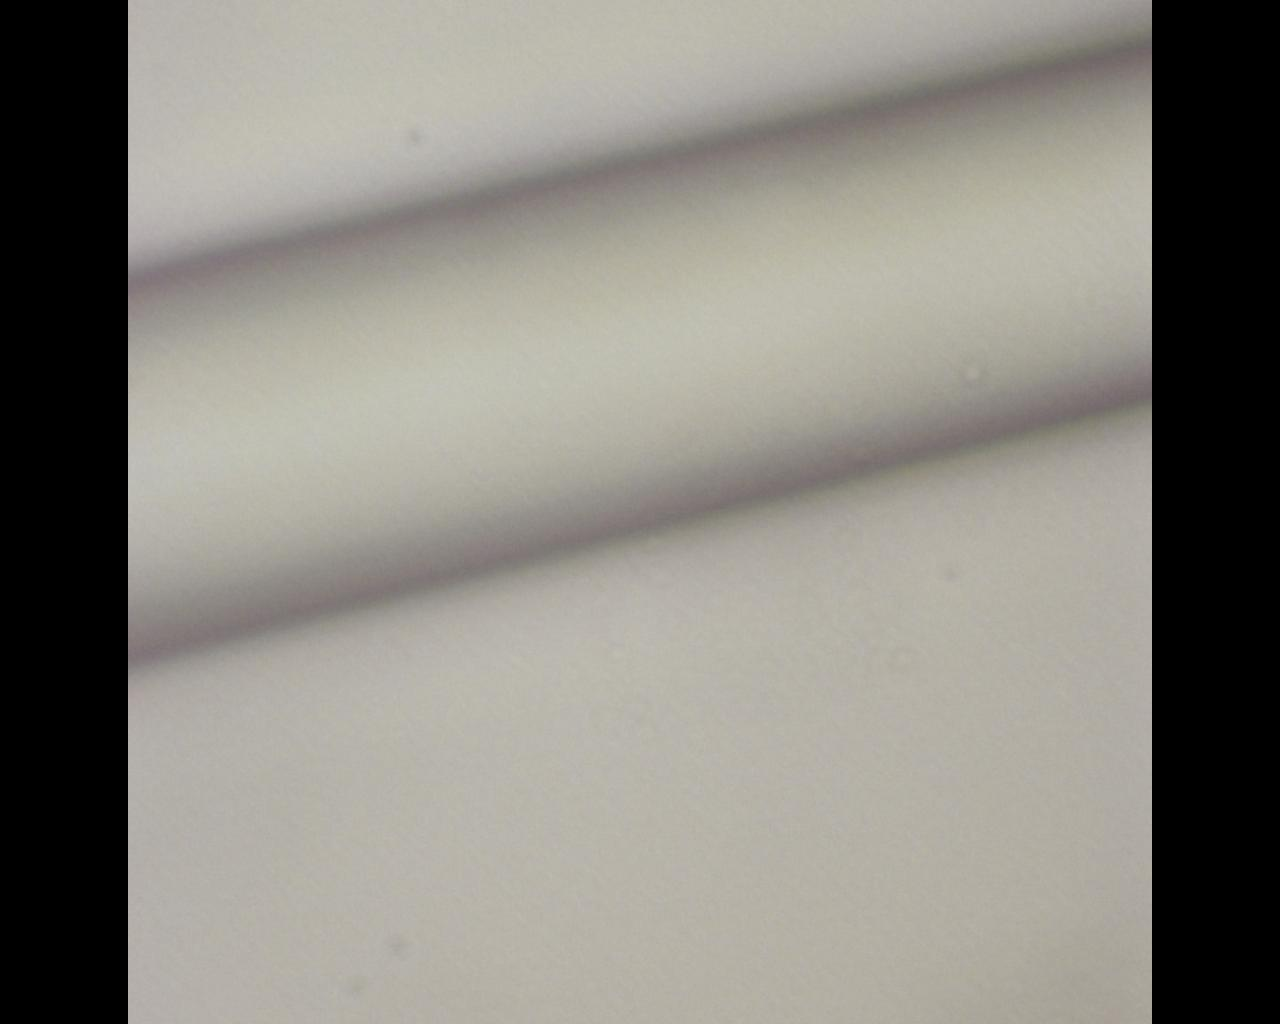fiber: (512, 286, 1280, 443), (0, 378, 512, 572), (512, 0, 1196, 28)
